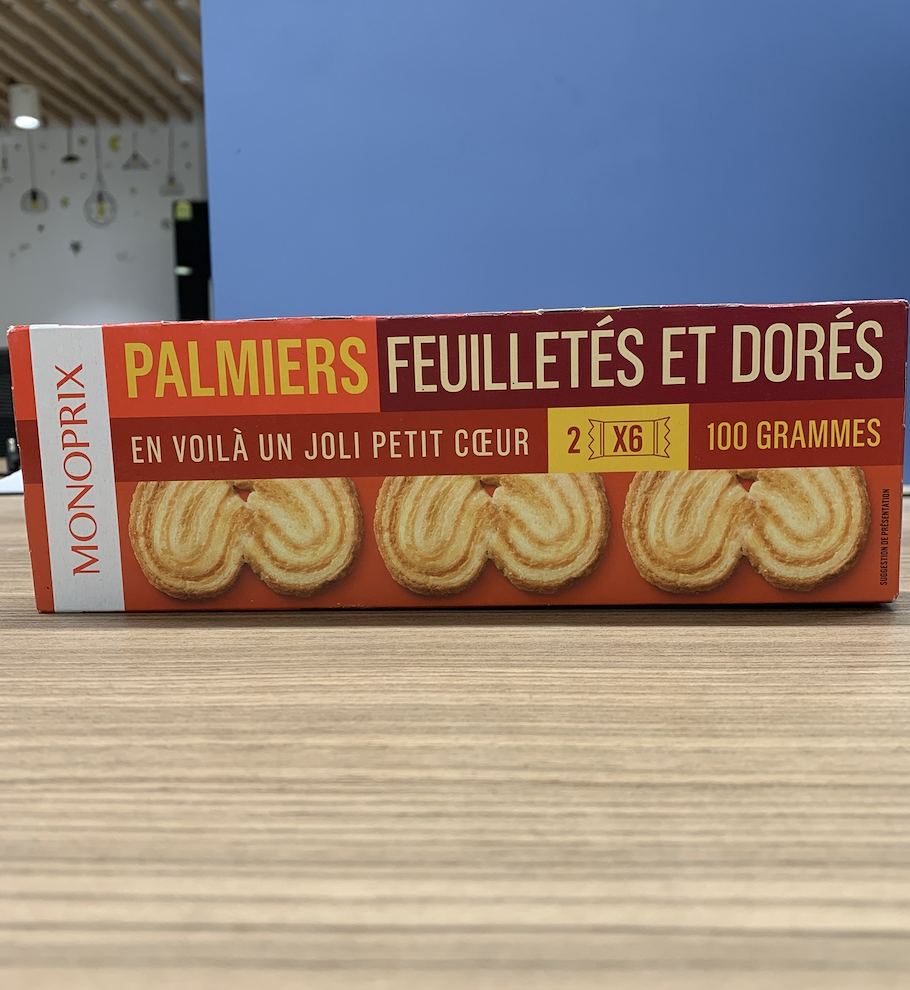cookies_150g: (46, 324, 897, 594)
